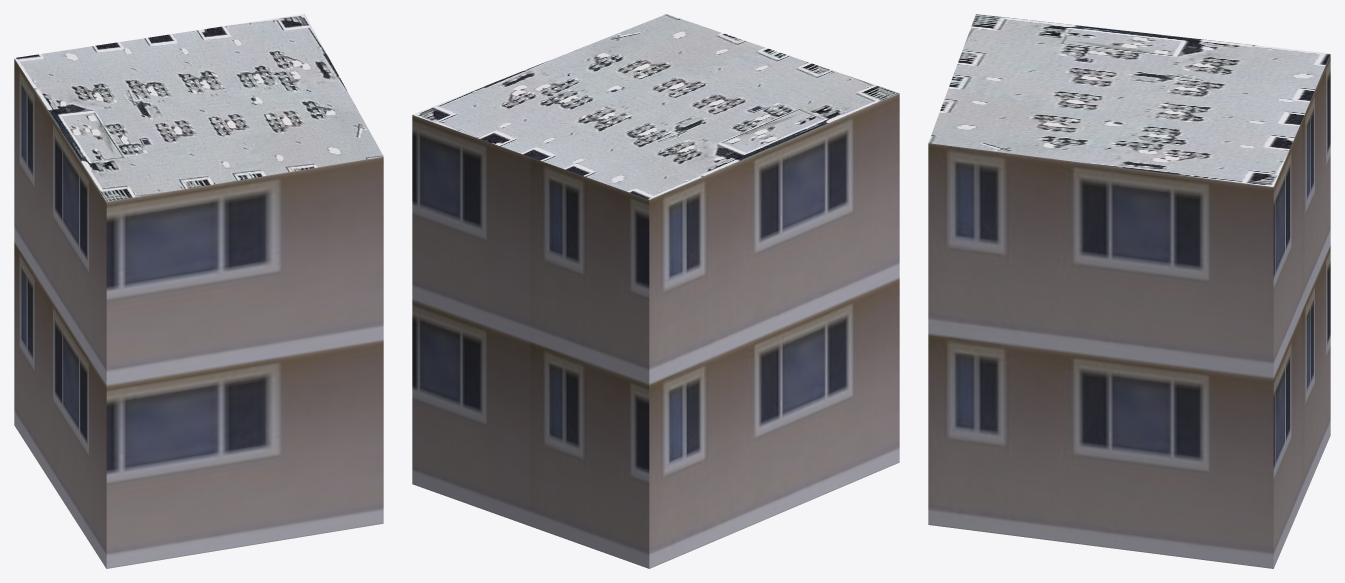
The model's file is ResTex__2628.fbx.
3 renders of one model, left to right at view 1: azimuth 30°, elevation 25°; view 2: azimuth 150°, elevation 25°; view 3: azimuth 270°, elevation 25°, orthographic. The views are drawn at different scales.
Parts seen in each view (by area): view 1: CityEngineMaterial_21_m, CityEngineMaterial_4_m; view 2: CityEngineMaterial_21_m, CityEngineMaterial_4_m; view 3: CityEngineMaterial_21_m, CityEngineMaterial_4_m.
Boxes of the visible parts, x1,y1,x2,y2 form: CityEngineMaterial_21_m: [14, 59, 383, 568]; CityEngineMaterial_4_m: [14, 14, 383, 201]; CityEngineMaterial_21_m: [412, 93, 899, 568]; CityEngineMaterial_4_m: [413, 14, 899, 199]; CityEngineMaterial_21_m: [928, 54, 1330, 568]; CityEngineMaterial_4_m: [928, 14, 1330, 186].
Size of the model in its own units: 5.84 by 6 by 5.73.
2 materials, 2 textured.
